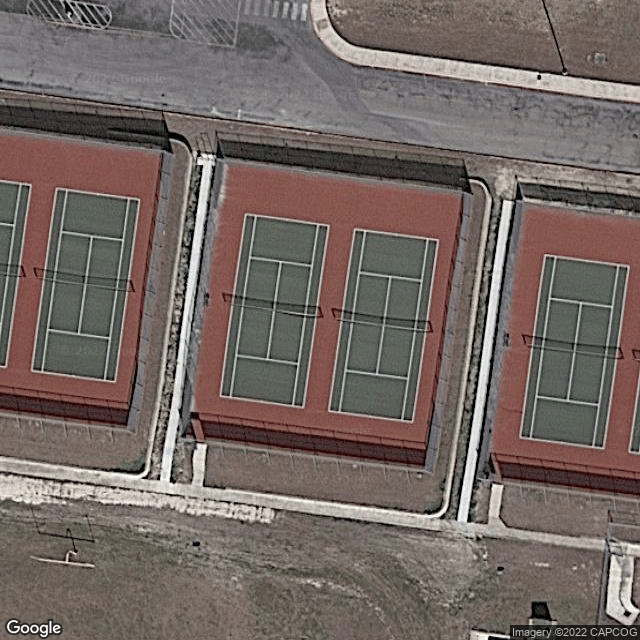Court: (326, 227, 442, 425), (216, 212, 331, 409), (515, 253, 630, 450), (32, 186, 142, 384), (1, 180, 32, 369), (627, 363, 639, 460)
